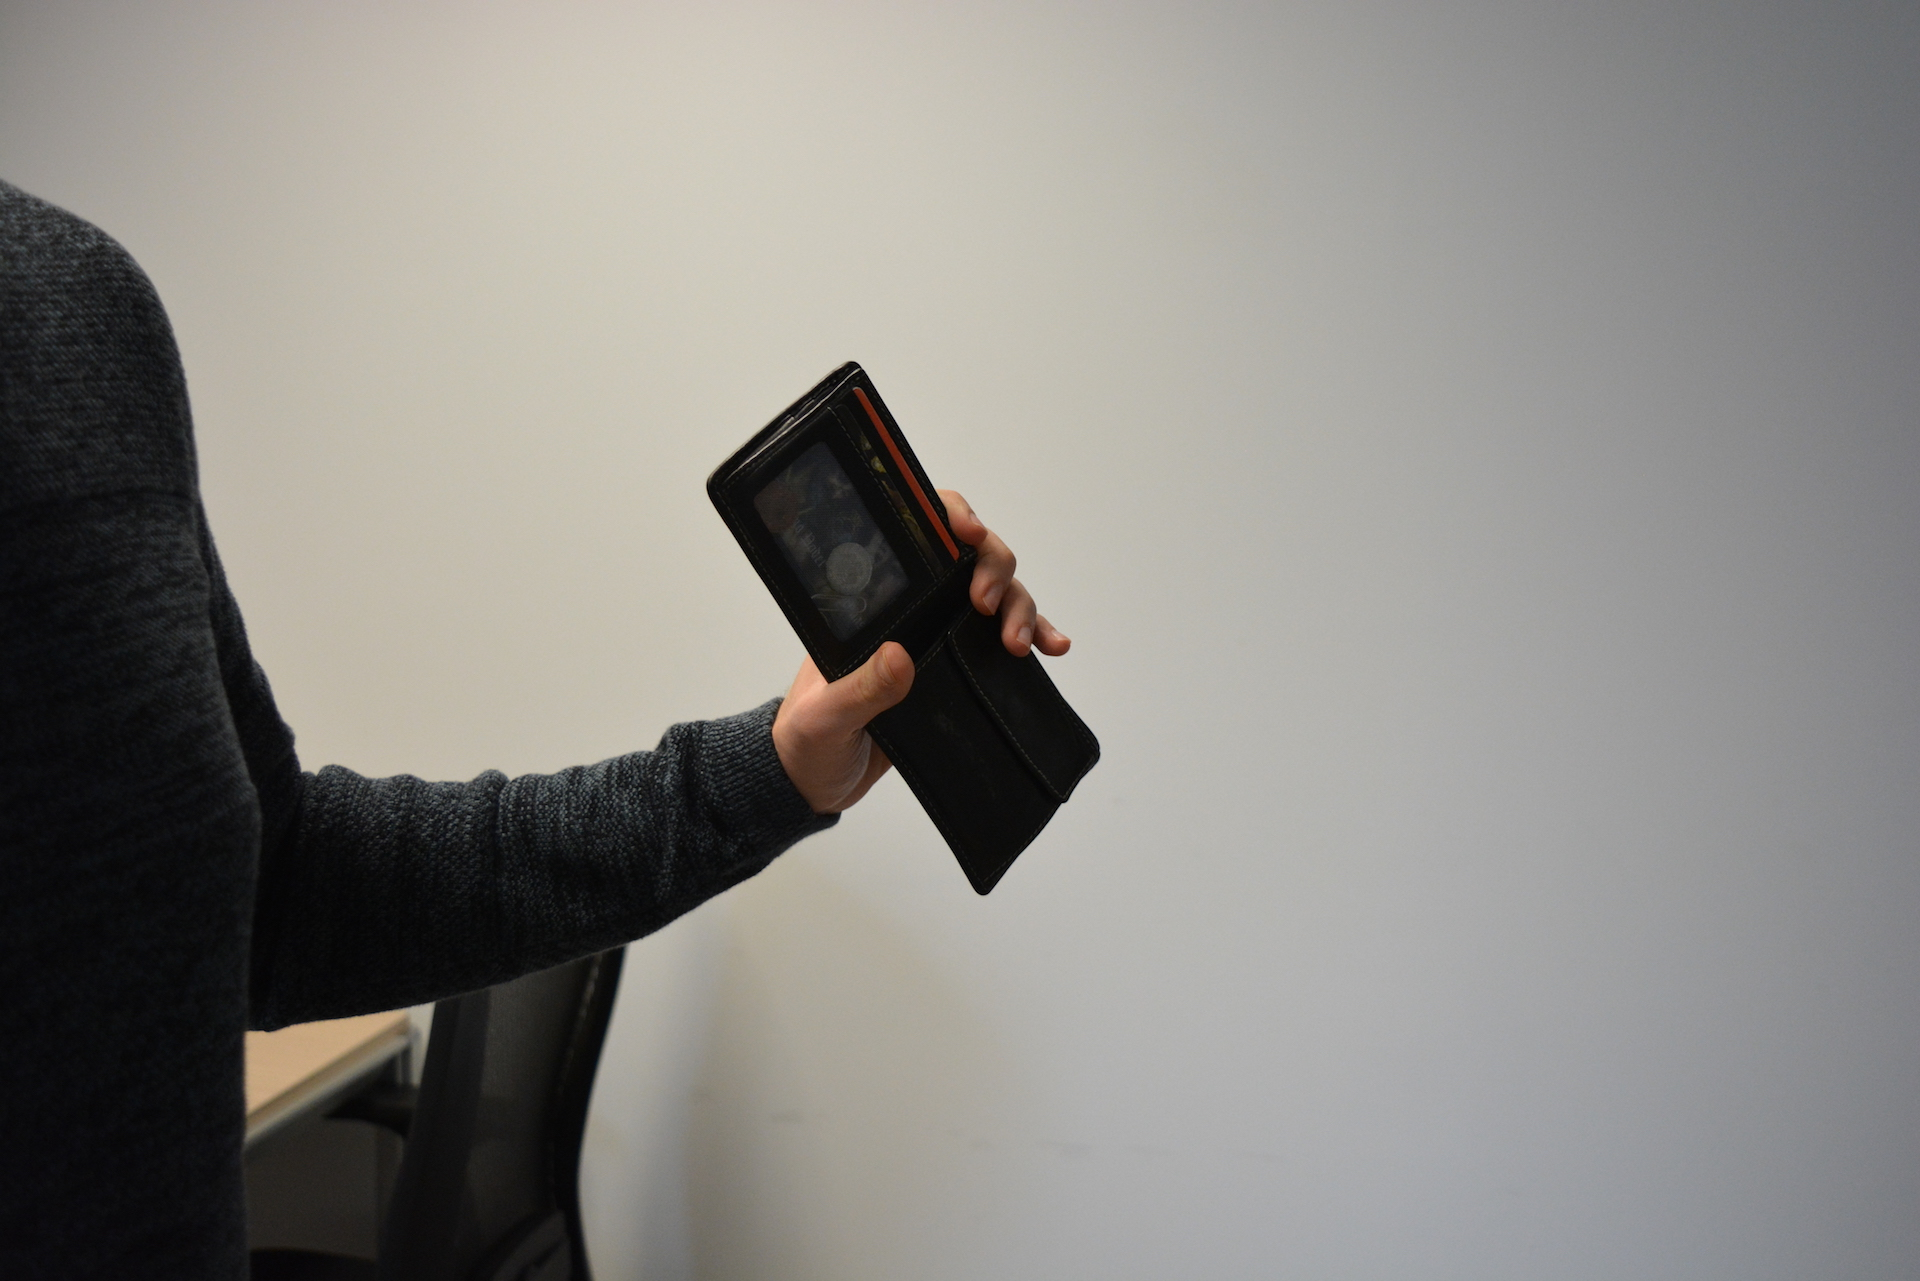monedero: (703, 357, 1102, 899)
